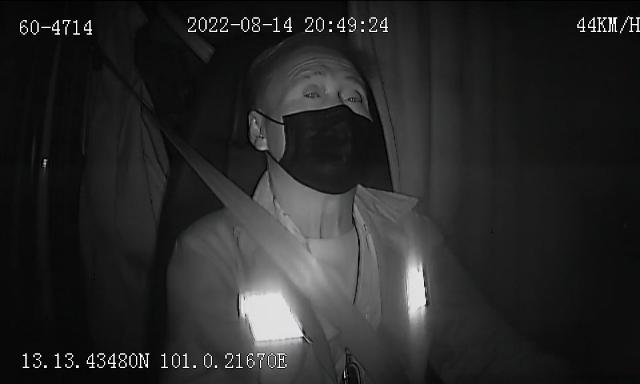SafeDriving: (300, 84, 324, 102)
Seatbelt: (168, 128, 412, 384)
